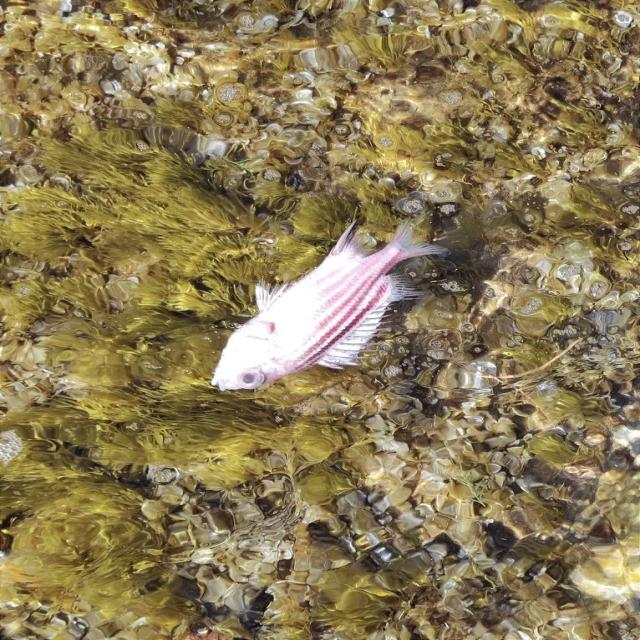Asker Baligi: (207, 216, 450, 393)
